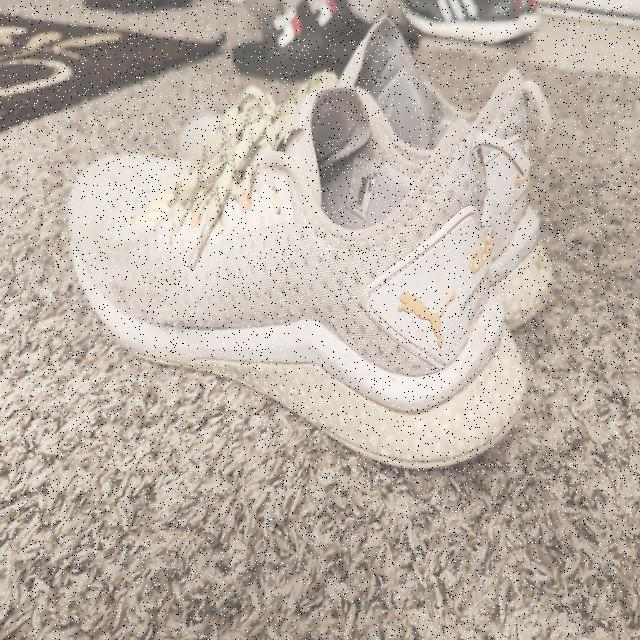white shoes: (137, 62, 549, 436)
